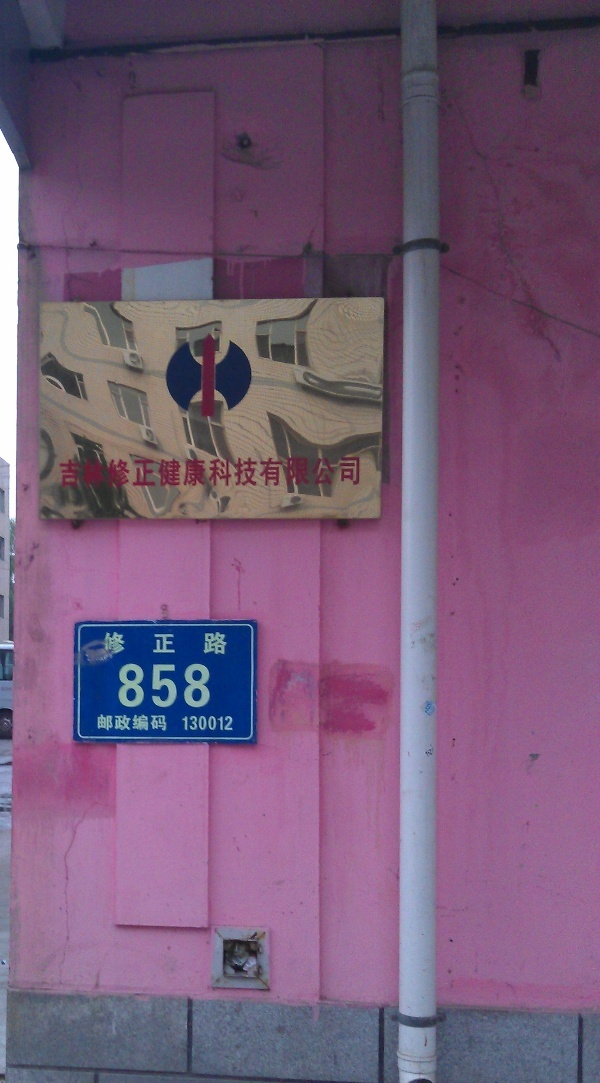text: (129, 662, 144, 709), (145, 662, 160, 709), (161, 662, 176, 709), (177, 662, 192, 709), (193, 662, 208, 709), (65, 456, 80, 488), (81, 456, 96, 488), (97, 456, 112, 488), (113, 456, 128, 488), (129, 456, 144, 488), (145, 456, 160, 488), (161, 456, 176, 488), (177, 456, 192, 488), (193, 456, 208, 488), (209, 456, 224, 488), (225, 456, 240, 488), (241, 456, 256, 488), (257, 456, 272, 488), (273, 456, 288, 488), (289, 456, 304, 488), (305, 456, 320, 488), (321, 456, 336, 488), (337, 456, 352, 488), (118, 662, 128, 709), (113, 631, 128, 655), (129, 631, 144, 655), (145, 631, 160, 655), (161, 631, 176, 655), (177, 631, 192, 655), (193, 631, 208, 655), (209, 631, 224, 655), (113, 714, 128, 732), (129, 714, 144, 732), (145, 714, 160, 732), (353, 456, 361, 488), (98, 714, 112, 732), (193, 715, 208, 731), (209, 715, 224, 731), (103, 631, 112, 655), (182, 715, 192, 731), (225, 715, 235, 731), (60, 456, 64, 488), (161, 714, 168, 732), (225, 631, 229, 655), (209, 662, 210, 709)
